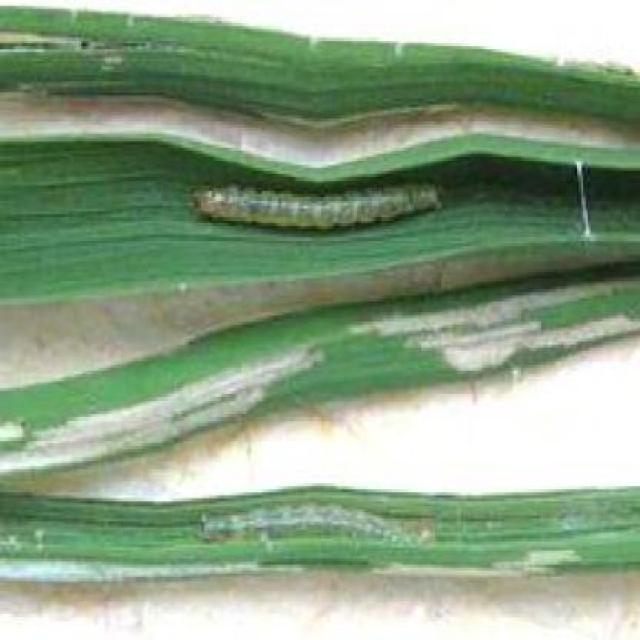leaf-folder: (183, 159, 457, 264), (200, 491, 446, 563)
